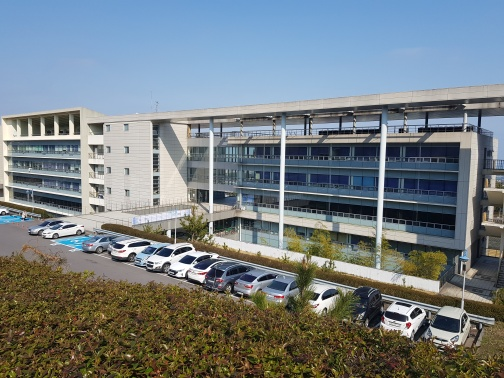Engineering College Building 4: (12, 101, 498, 226), (257, 128, 481, 258), (26, 114, 218, 207)
